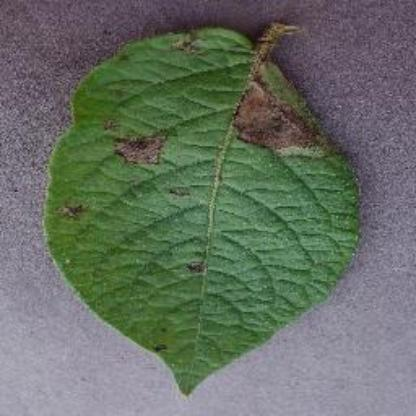Late-Blight: (26, 21, 388, 382)
